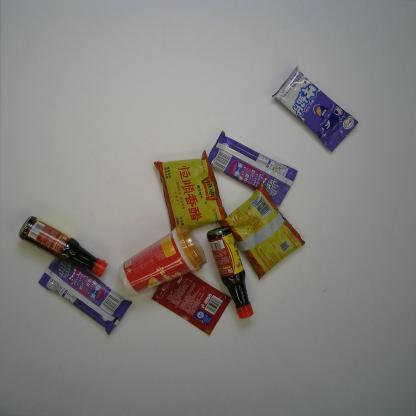Candy: (271, 65, 359, 153), (37, 256, 132, 336), (207, 130, 298, 207)
Instant Drink: (118, 221, 209, 297)
Seasoner: (219, 181, 306, 280), (153, 150, 228, 235), (18, 216, 108, 278), (151, 271, 232, 336), (206, 225, 254, 320)
